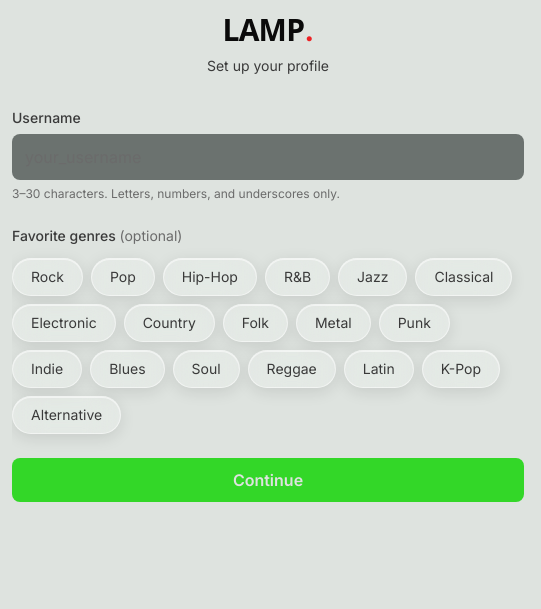
Test: OnboardingForm › shows error for username with special characters
Type "user@name!" into the field labelled "Username".
click(268, 157); type("user@name!")  # box x1=12 y1=134 x2=524 y2=180
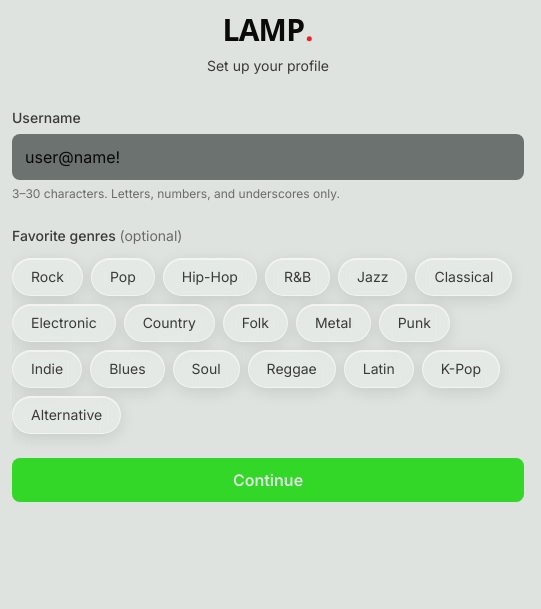
Click the button "Continue".
click(268, 480)  # box x1=12 y1=458 x2=524 y2=502
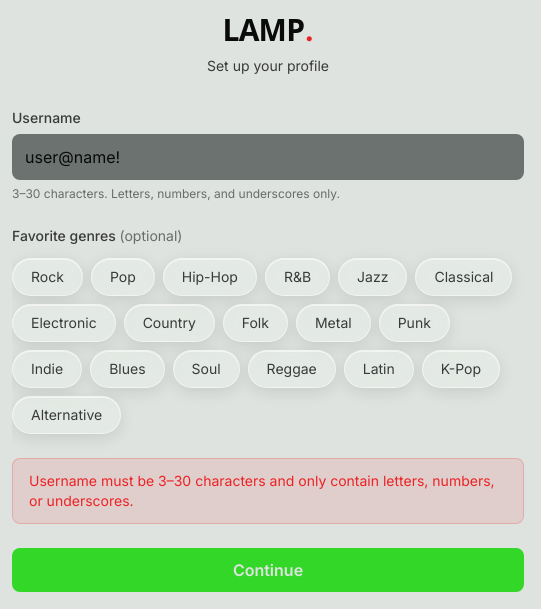
Expected: the text "letters, numbers, or underscores" is shown, x1=29 y1=472 x2=495 y2=509
